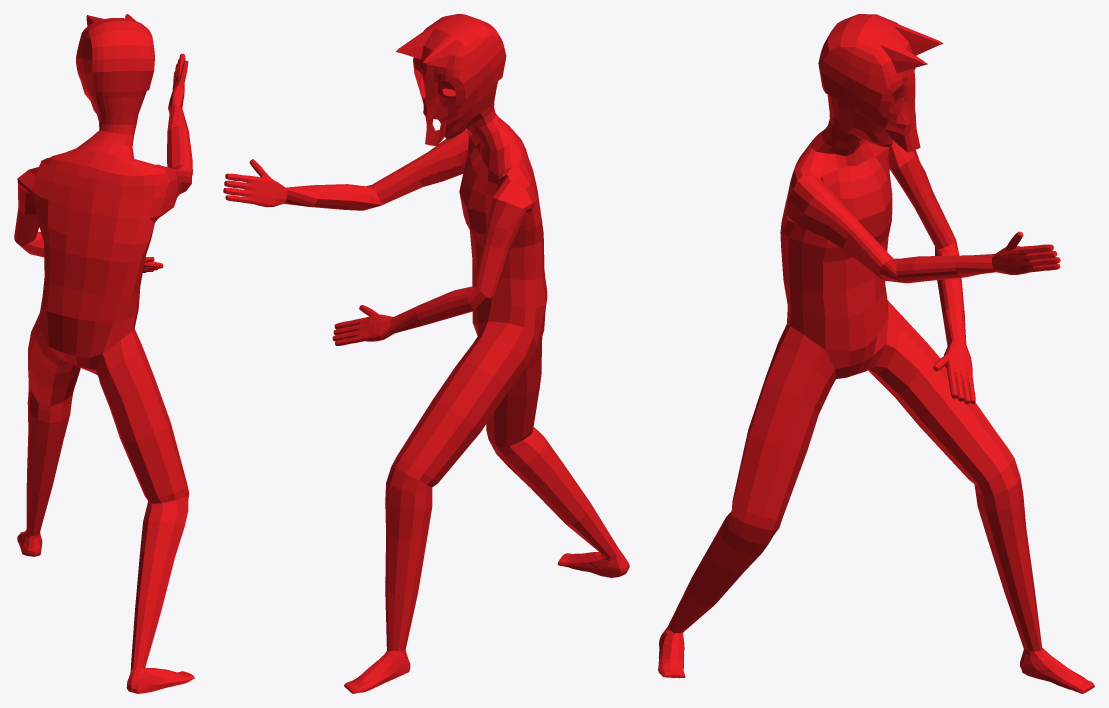
The model's file is activaAlarma_000073.obj.
The picture shows the model from 3 angles, left to right: view 1: azimuth 30°, elevation 25°; view 2: azimuth 150°, elevation 25°; view 3: azimuth 270°, elevation 25°; orthographic projection. The views are drawn at different scales.
Visible parts, largest first — view 1: Plane.002_Plane.001; view 2: Plane.002_Plane.001; view 3: Plane.002_Plane.001.
Part boxes in pixels (<box>): Plane.002_Plane.001: <box>14,14,194,693</box>; Plane.002_Plane.001: <box>223,14,629,693</box>; Plane.002_Plane.001: <box>658,14,1094,693</box>.
Bounding box in the file's own units: 2.69 × 6.6 × 3.91.
